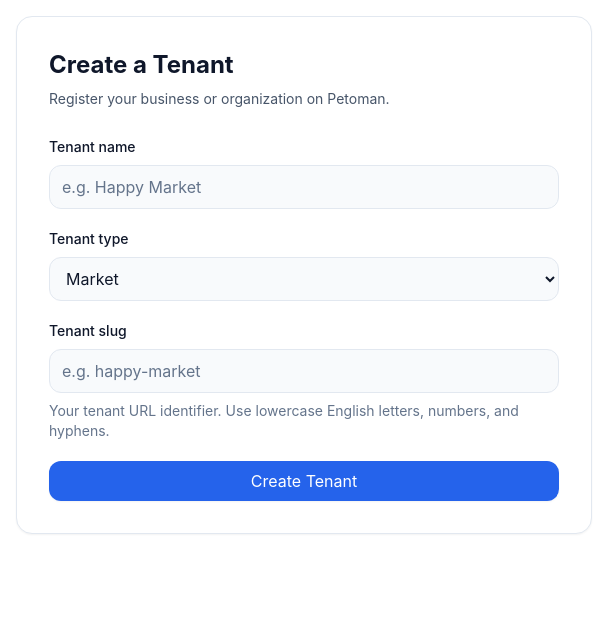
Scenario: CreateTenantPage › displays the API error message
Type "Happy Market" into the field labelled "Tenant name" at x=304, y=187, box [49,165,559,209]
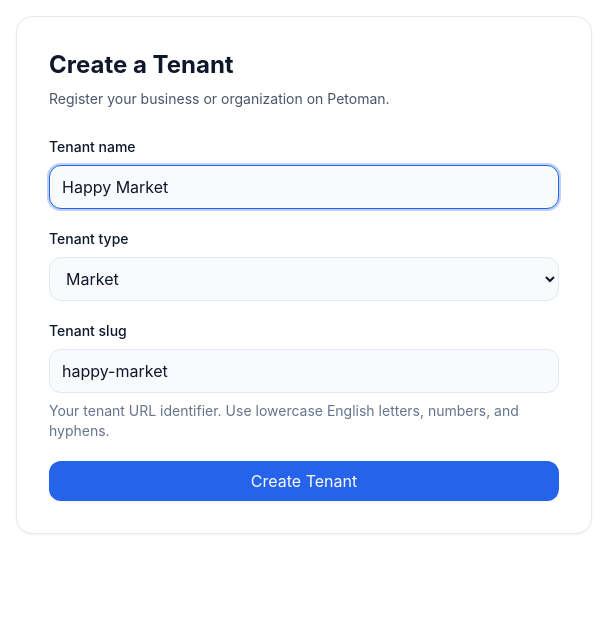
Click the button "Create Tenant" at x=304, y=481, box [49,461,559,501]
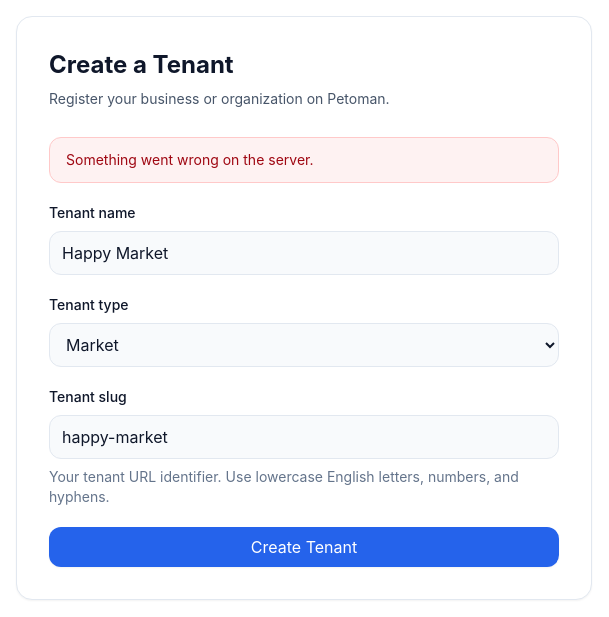
Now the text "Something went wrong on the server." is shown, box [66,151,314,168]
